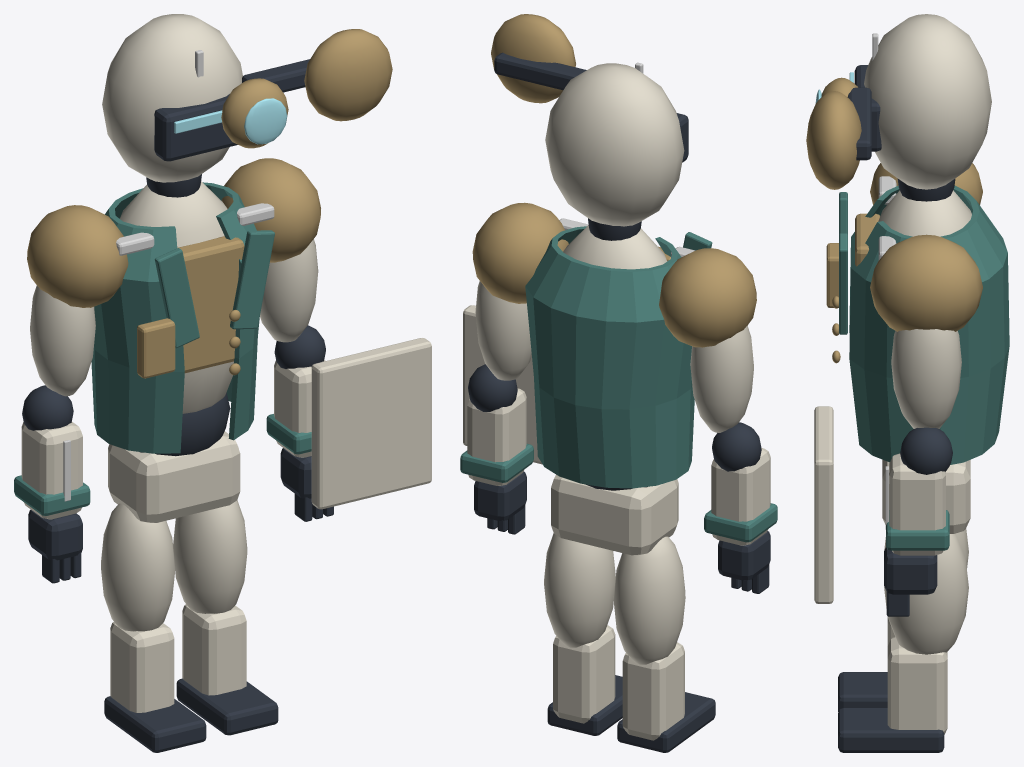
The model's file is reader.glb.
3 views of the same model, side by side, from view 1: azimuth 30°, elevation 25°; view 2: azimuth 150°, elevation 25°; view 3: azimuth 270°, elevation 25° (orthographic). The views are drawn at different scales.
Visible parts, largest first — view 1: Reader open folio, Scholar waistcoat, Helmet, Pelvis, Shoulder R, Thigh R, Thigh L, Large monocular optic, Sternum shield, Shoulder L, Articulated thorax, Upper arm R (+22 smaller); view 2: Scholar waistcoat, Helmet, Pelvis, Shoulder R, Thigh R, Thigh L, Shoulder L, Upper arm R, Shin R, Shin L, Large monocular optic, Upper arm L (+14 smaller); view 3: Scholar waistcoat, Helmet, Shoulder L, Upper arm L, Thigh L, Shin L, Large monocular optic, Reader open folio, Bracer L, Foot L, Articulated thorax, Hand L (+14 smaller).
Boxes of the visible parts, x1=… form: Reader open folio: x1=311, y1=338, x2=431, y2=509; Scholar waistcoat: x1=91, y1=182, x2=259, y2=453; Helmet: x1=102, y1=14, x2=242, y2=182; Pelvis: x1=108, y1=431, x2=240, y2=522; Shoulder R: x1=27, y1=205, x2=128, y2=307; Thigh R: x1=101, y1=503, x2=175, y2=631; Thigh L: x1=173, y1=500, x2=247, y2=613; Large monocular optic: x1=304, y1=29, x2=392, y2=121; Sternum shield: x1=177, y1=236, x2=244, y2=373; Shoulder L: x1=221, y1=158, x2=320, y2=262; Articulated thorax: x1=120, y1=181, x2=233, y2=413; Upper arm R: x1=30, y1=285, x2=95, y2=396; Scholar waistcoat: x1=525, y1=226, x2=694, y2=488; Helmet: x1=545, y1=63, x2=684, y2=226; Pelvis: x1=551, y1=474, x2=678, y2=555; Shoulder R: x1=659, y1=248, x2=756, y2=347; Thigh R: x1=613, y1=536, x2=685, y2=664; Thigh L: x1=544, y1=533, x2=615, y2=647; Shoulder L: x1=472, y1=202, x2=568, y2=303; Upper arm R: x1=690, y1=326, x2=753, y2=432; Shin R: x1=622, y1=642, x2=684, y2=740; Shin L: x1=553, y1=625, x2=615, y2=723; Large monocular optic: x1=491, y1=14, x2=575, y2=103; Upper arm L: x1=475, y1=281, x2=531, y2=380; Scholar waistcoat: x1=849, y1=185, x2=1009, y2=464; Helmet: x1=864, y1=14, x2=991, y2=189; Shoulder L: x1=870, y1=234, x2=982, y2=331; Upper arm L: x1=891, y1=329, x2=961, y2=428; Thigh L: x1=884, y1=533, x2=968, y2=654; Shin L: x1=887, y1=637, x2=947, y2=734; Large monocular optic: x1=806, y1=91, x2=861, y2=189; Reader open folio: x1=814, y1=406, x2=833, y2=603; Bracer L: x1=889, y1=453, x2=945, y2=555; Foot L: x1=838, y1=708, x2=944, y2=752; Articulated thorax: x1=878, y1=190, x2=971, y2=236; Hand L: x1=884, y1=547, x2=937, y2=594.
Size of the model in its own units: 1.18 by 2.2 by 0.575.
